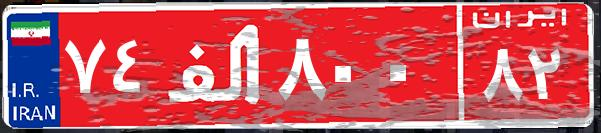0: (385, 28, 445, 110), (330, 28, 385, 110)
2: (525, 38, 570, 115)
4: (110, 28, 158, 105)
7: (57, 26, 110, 107)
8: (273, 28, 330, 110), (475, 38, 525, 113)
الف: (158, 15, 273, 115)
